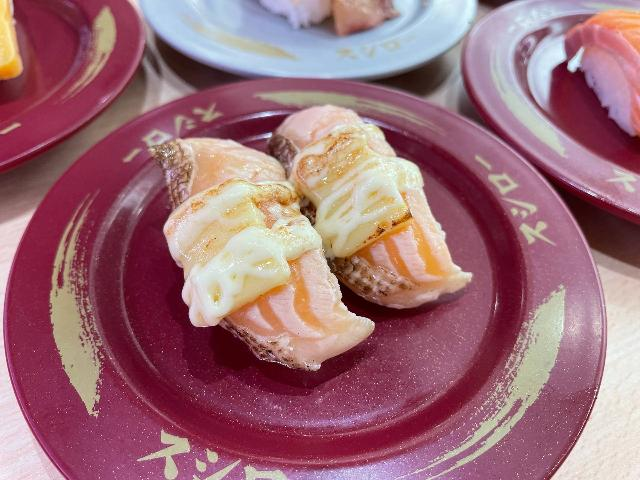janred: (53, 120, 571, 449), (462, 3, 640, 232), (155, 0, 471, 78), (0, 0, 146, 151)
